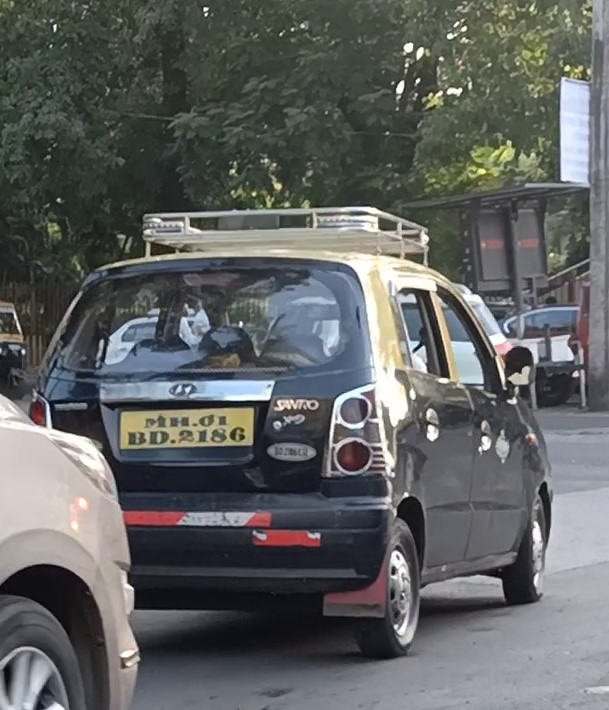MH01BD2186: (120, 406, 254, 447)
